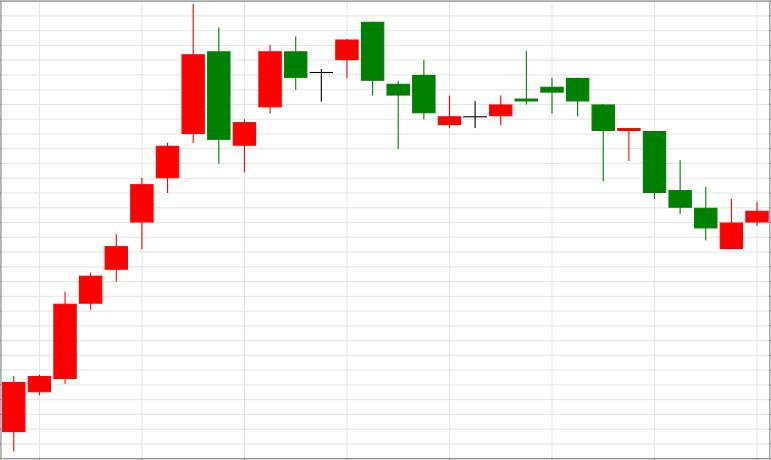bearish_engulfing_fall: (233, 22, 384, 172)
